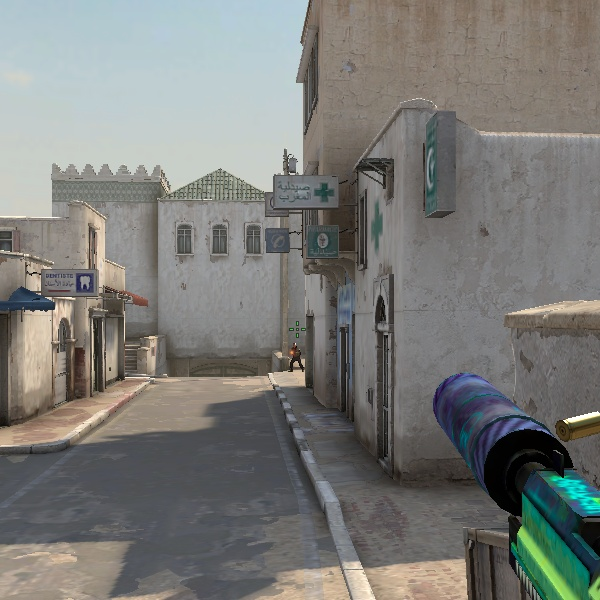t_body: (289, 342, 304, 373)
t_head: (293, 342, 297, 349)
